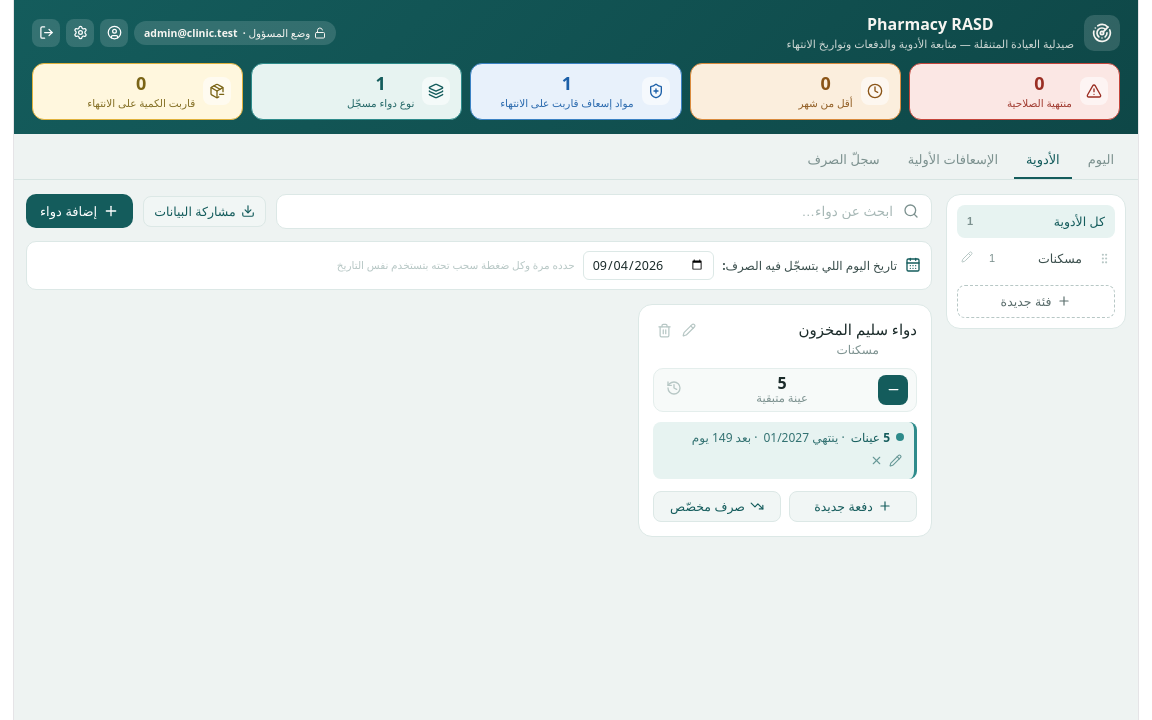
Test: KPI cards — clickable dashboard shortcuts › shows the existing empty state (not a blank area) when a KPI filter matches nothing
This screenshot has width=1152, height=720.
Click the button "0 منتهية الصلاحية": [1014, 91] box [909,63,1120,120]
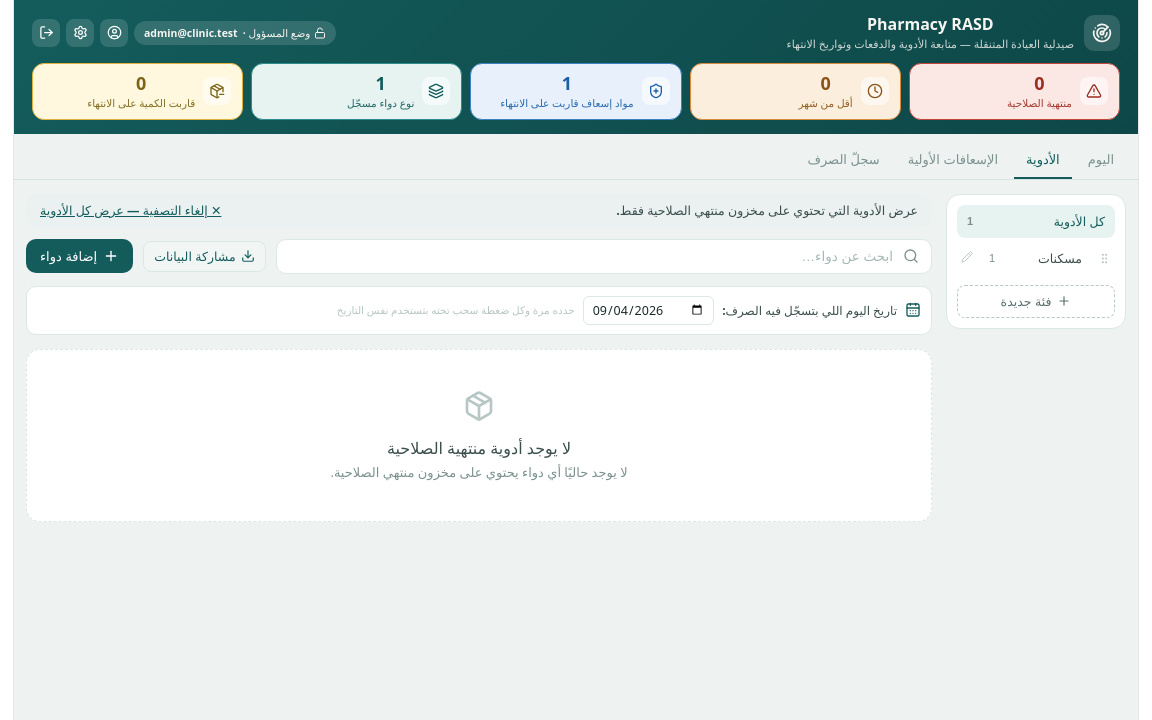
expect the text "لا يوجد أدوية منتهية الصلاحية" is shown: met, box [387,437,571,459]
